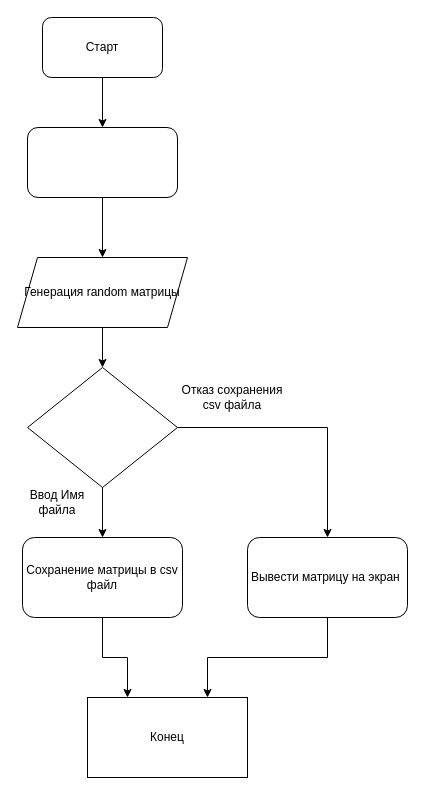
This 425x795 diagram has some shape labels left out. The shapes that lost their labels are listed below. From the top down, each one's centre as x and y in pixels, then its label:
pixel 102 162: Ввод размера матрицы (M*N)
pixel 102 427: Имя файла csv для сохранения
